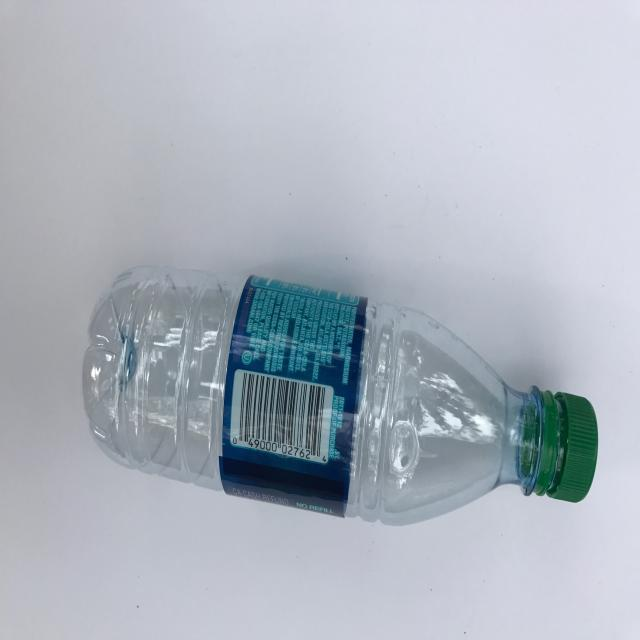plastic: (76, 262, 602, 536)
